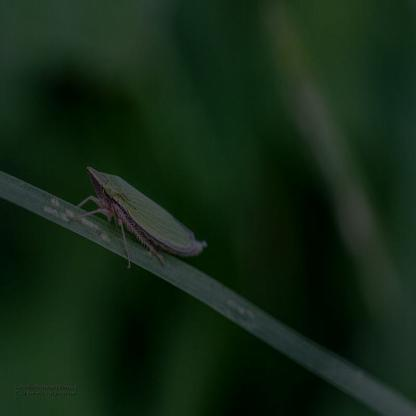green-leafhopper: (84, 166, 206, 282)
